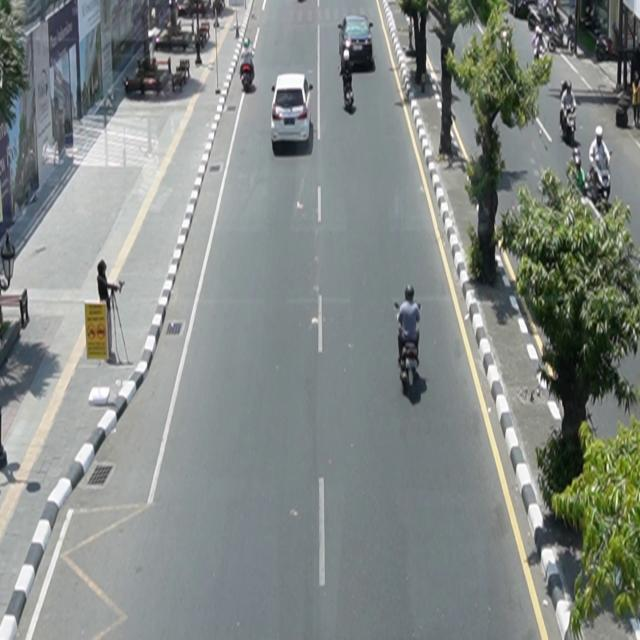car: (272, 73, 315, 147), (339, 15, 375, 73), (241, 54, 256, 92)
